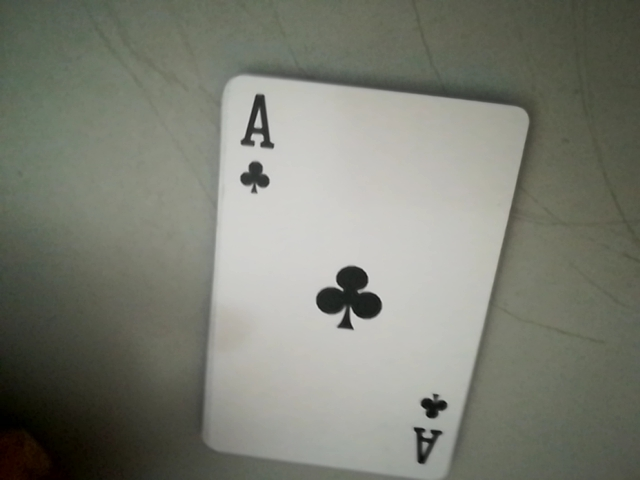mh a: (224, 81, 281, 199), (408, 388, 458, 478)
